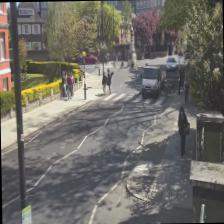person: (177, 107, 188, 159)
